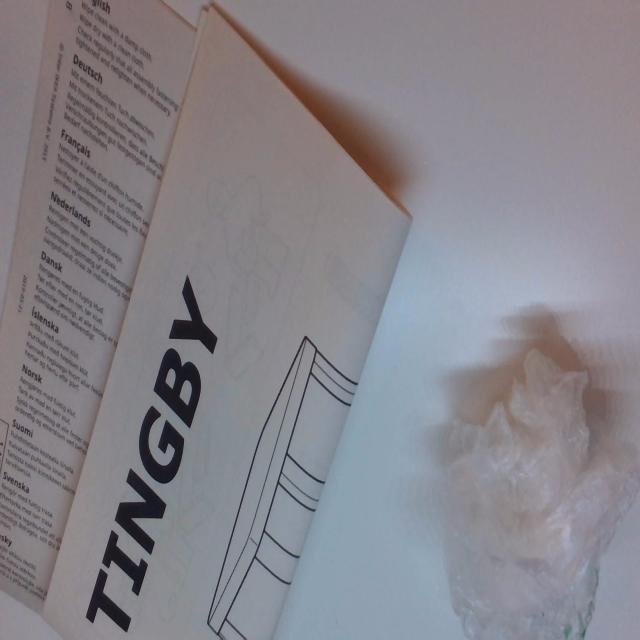Paper: (0, 0, 417, 639)
